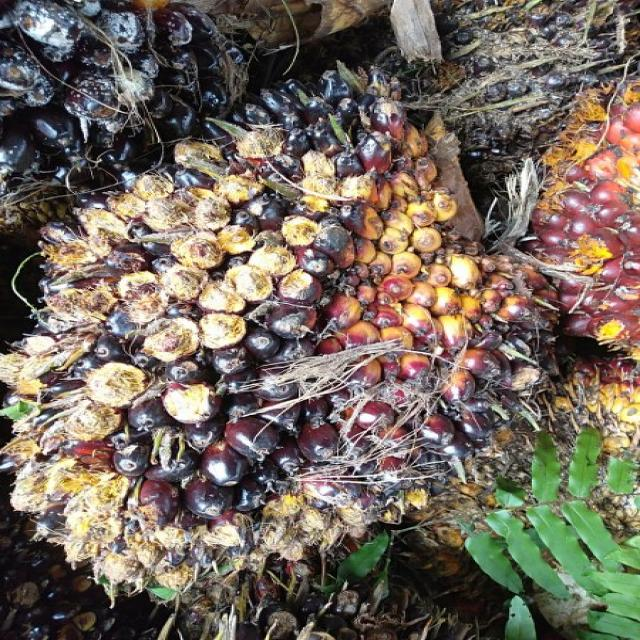fraksi 00: (27, 82, 532, 572)
